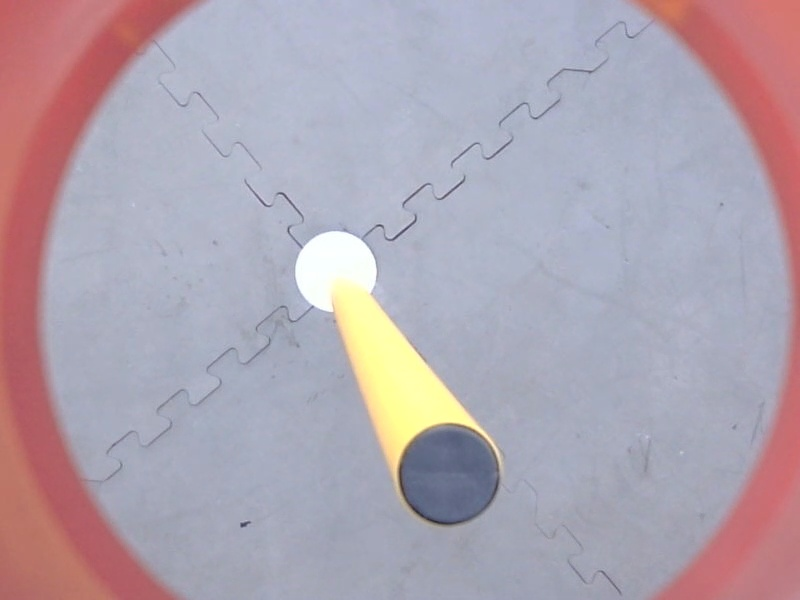tip: (391, 416, 507, 532)
